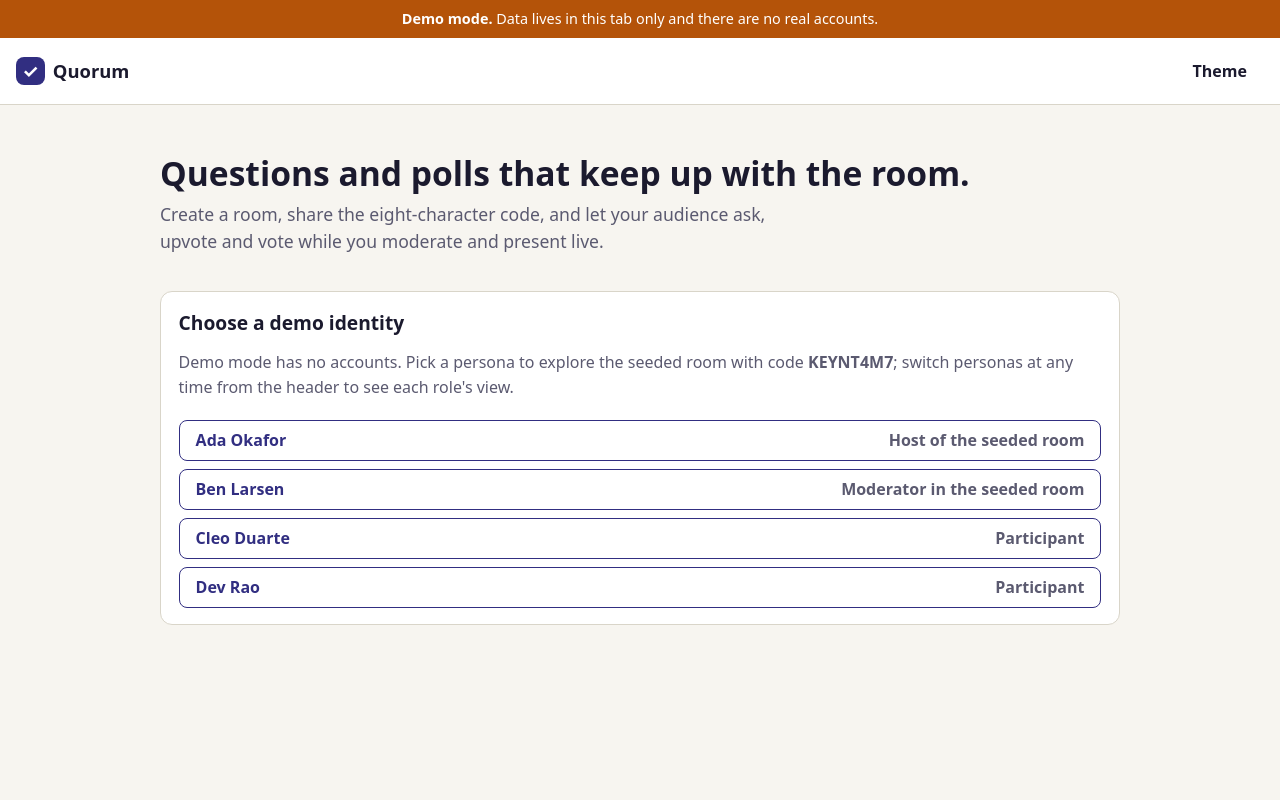
Test: demo sign-in › shows the demo banner and persona picker, then the home page for the chosen persona
Expected: the text "Demo mode." is shown, [402,9,492,28]
Expected: the link "Platform Summit" is not shown
Click the button "Cleo Duarte Participant". click: (243, 538)
box: [179,518,1101,559]
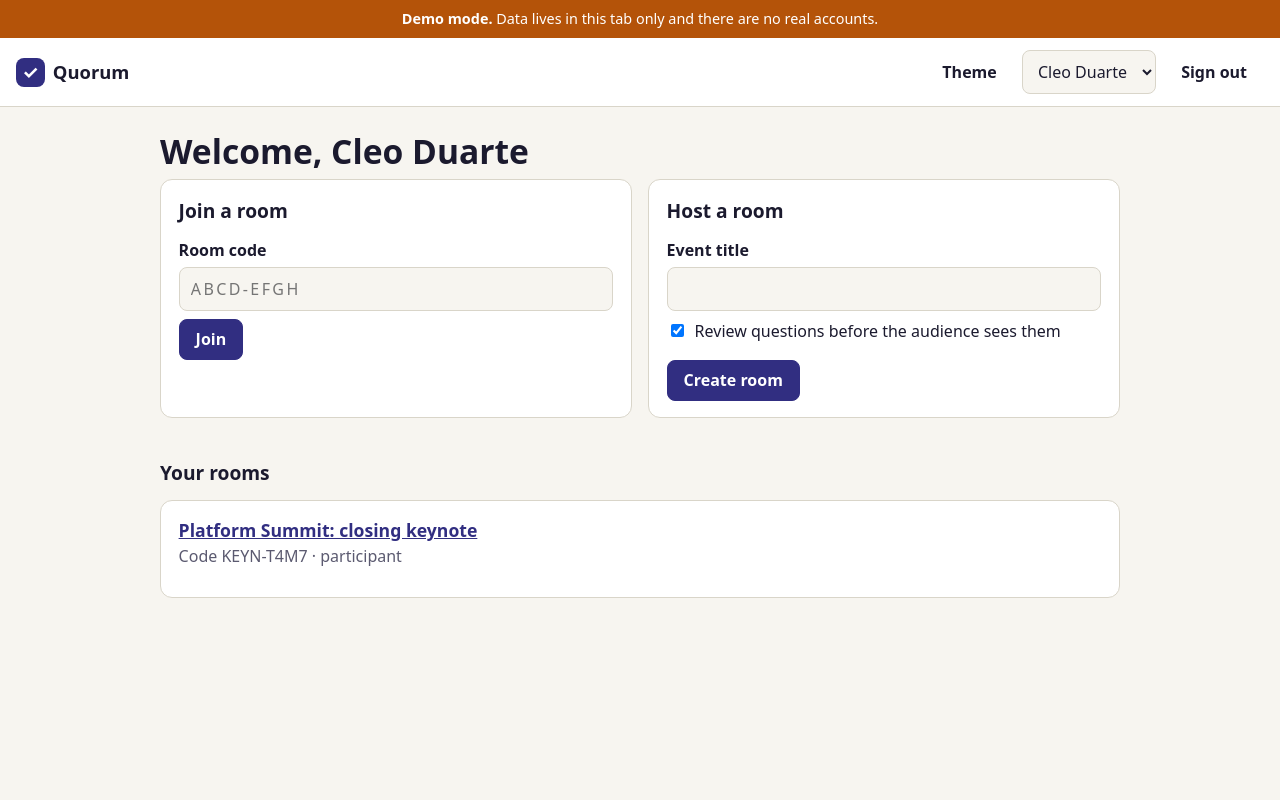
Now the heading "Welcome, Cleo Duarte" is shown, box [160,128,529,174]
Now the link "Platform Summit: closing keynote" is shown, box [179,518,477,542]
Click the button "Sign out". click: (1214, 72)
box: [1164,52,1264,93]
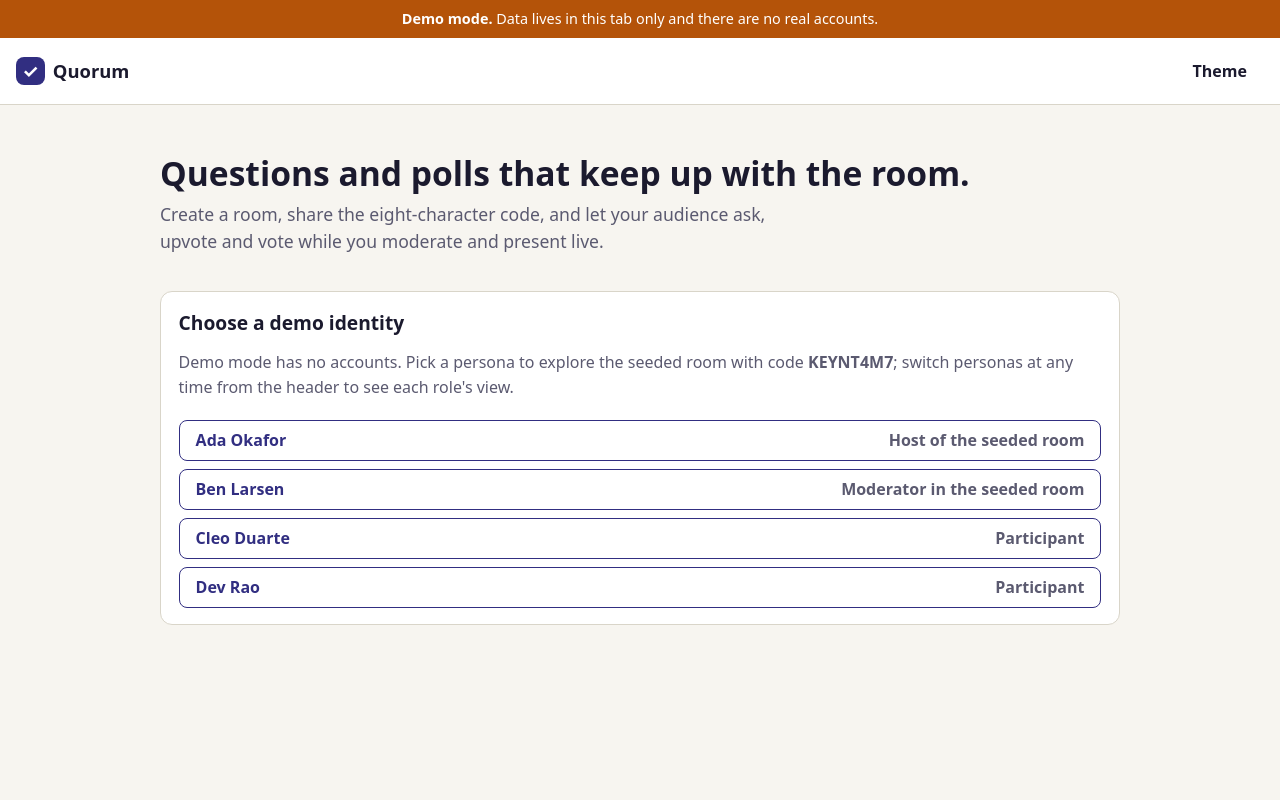
Now the heading "Choose a demo identity" is shown, box [179,309,404,336]
